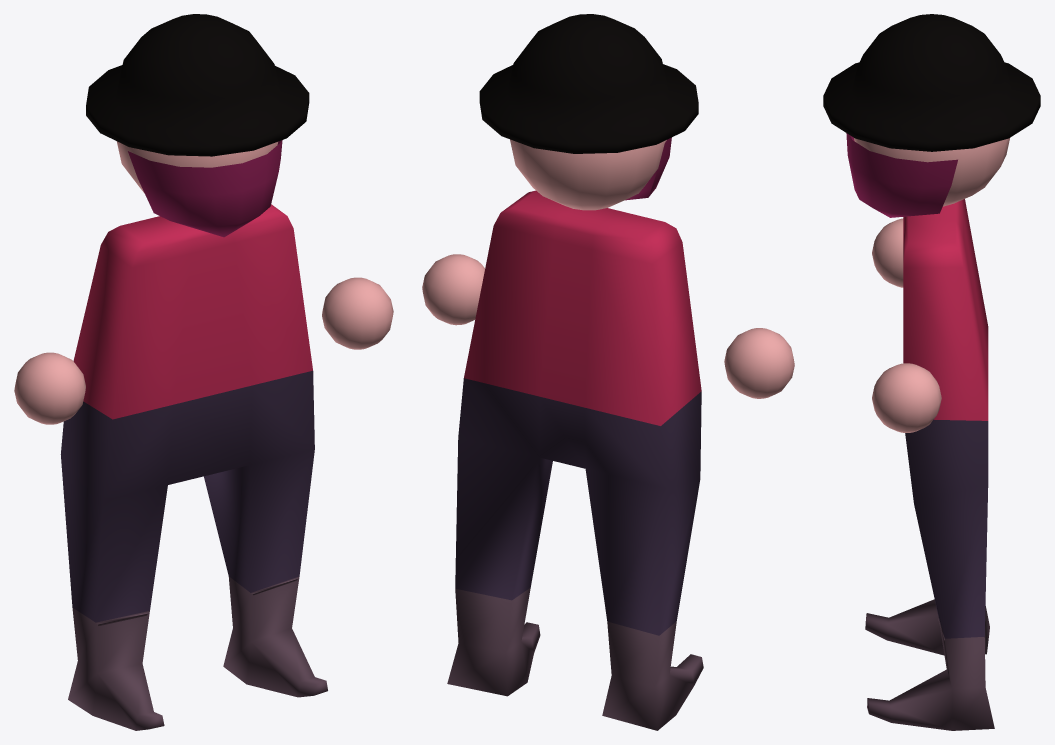
The model's file is bandit.fbx.
The picture shows the model from 3 angles, left to right: view 1: azimuth 30°, elevation 25°; view 2: azimuth 150°, elevation 25°; view 3: azimuth 270°, elevation 25°; orthographic projection. The views are drawn at different scales.
Parts seen in each view (by area): view 1: Hands.001; view 2: Hands.001; view 3: Hands.001.
Boxes of the visible parts, bbox=[...] form: Hands.001: bbox=[14, 14, 393, 730]; Hands.001: bbox=[422, 14, 794, 730]; Hands.001: bbox=[823, 14, 1040, 730].
Bounding box in the file's own units: 90.56 × 159 × 47.68.
